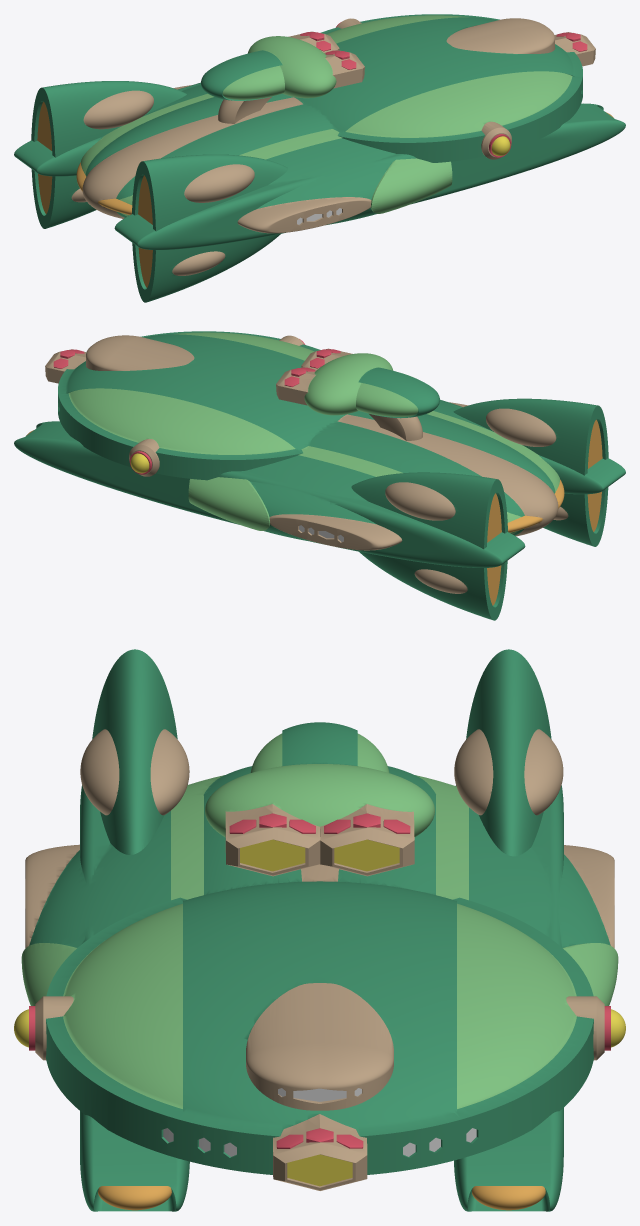
Rendered from kre-lightning.glb.
The picture shows the model from 3 angles, top to bottom: view 1: azimuth 30°, elevation 25°; view 2: azimuth 150°, elevation 25°; view 3: azimuth 270°, elevation 25°; orthographic projection. The views are drawn at different scales.
Visible parts, largest first — view 1: Lightning current hull - authored COLOR_0 regions; view 2: Lightning current hull - authored COLOR_0 regions; view 3: Lightning current hull - authored COLOR_0 regions.
Boxes of the visible parts, bbox=[...] form: Lightning current hull - authored COLOR_0 regions: bbox=[14, 14, 625, 302]; Lightning current hull - authored COLOR_0 regions: bbox=[14, 331, 625, 620]; Lightning current hull - authored COLOR_0 regions: bbox=[14, 649, 625, 1211].
Bounding box in the file's own units: 5.55 × 2.12 × 3.1.
